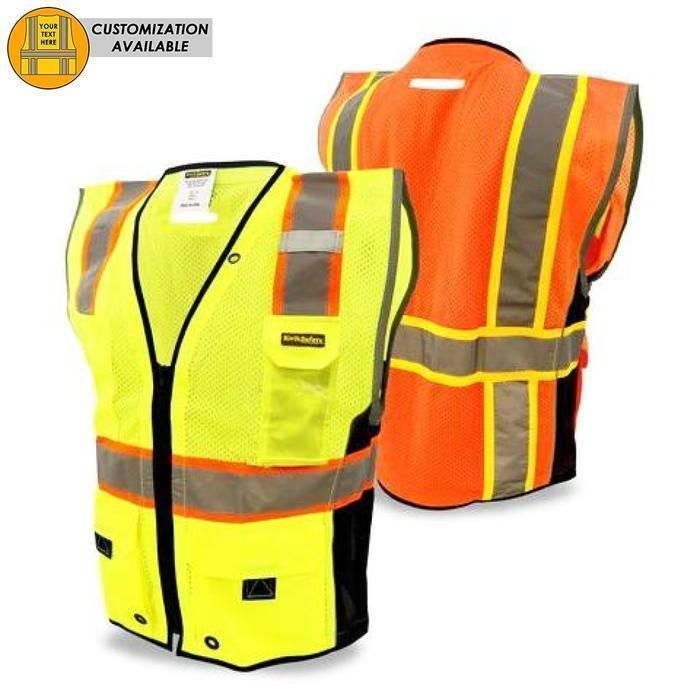vest: (62, 160, 420, 669), (314, 35, 640, 506)
